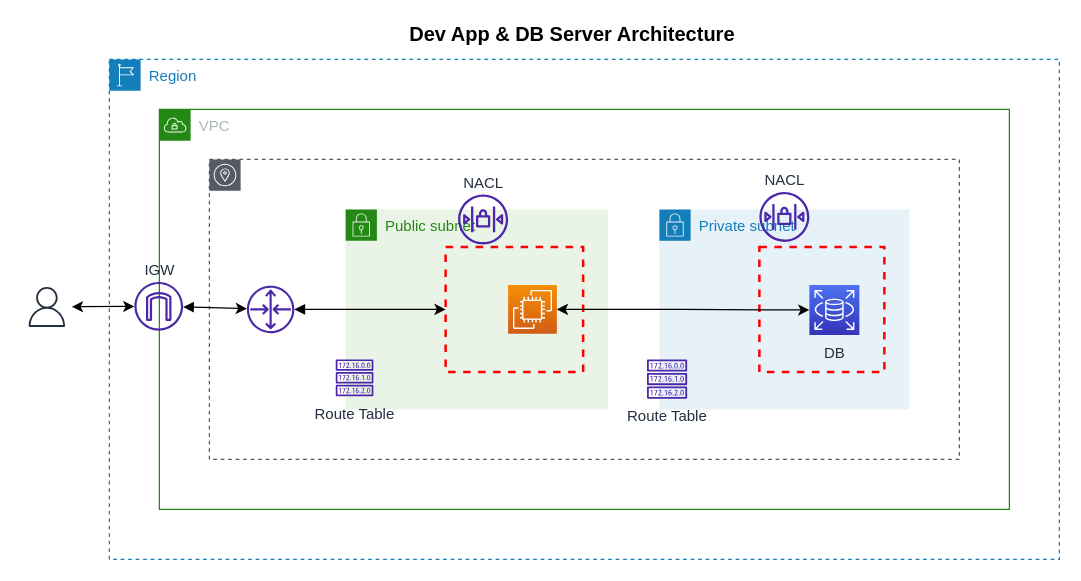
Image size: 1081x581. Some labels were removed from this diagram. The box of each missing label's shape, as (x1, y1, x2, y2) in pixels:
Availability zone: (208, 158, 959, 459)
EC2: (507, 284, 557, 334)
Router: (246, 285, 294, 332)
User: (21, 281, 72, 332)
